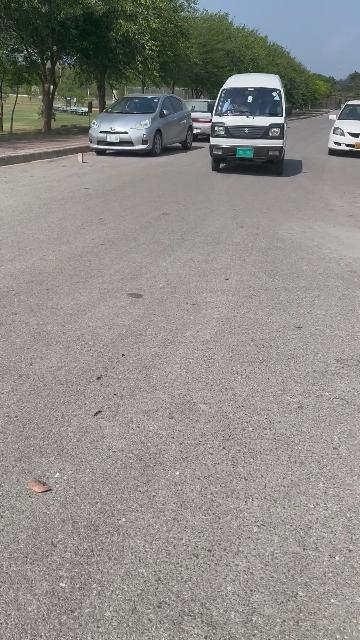plate: (235, 147, 255, 157)
